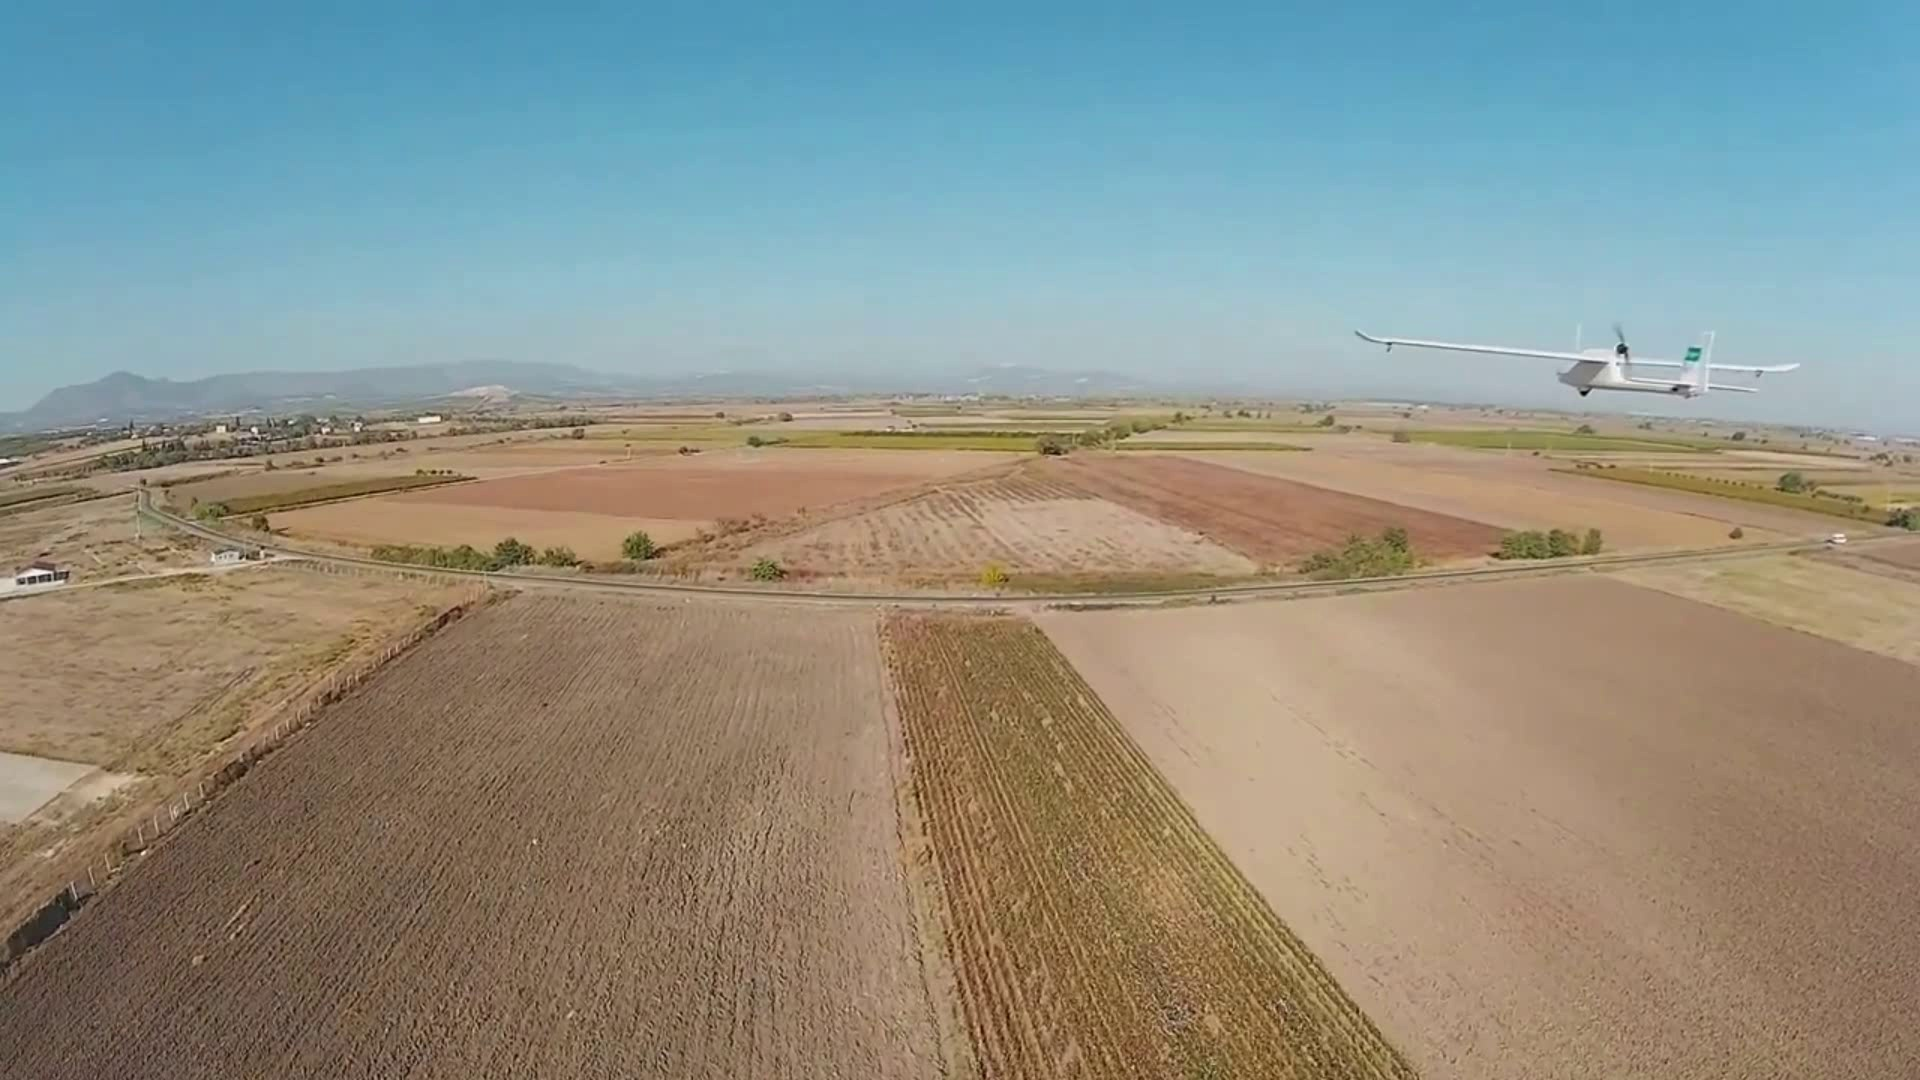airplane: (1351, 316, 1805, 405), (1, 561, 70, 589)
